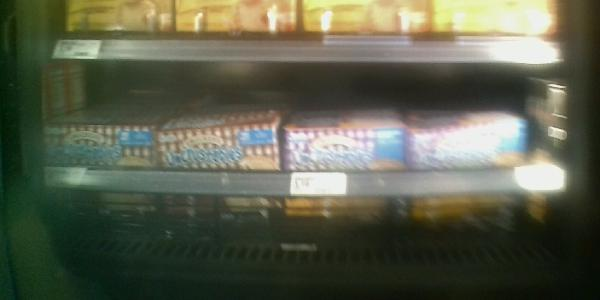icecream: (37, 101, 157, 175), (282, 114, 416, 178), (412, 110, 540, 169), (155, 116, 282, 173)
